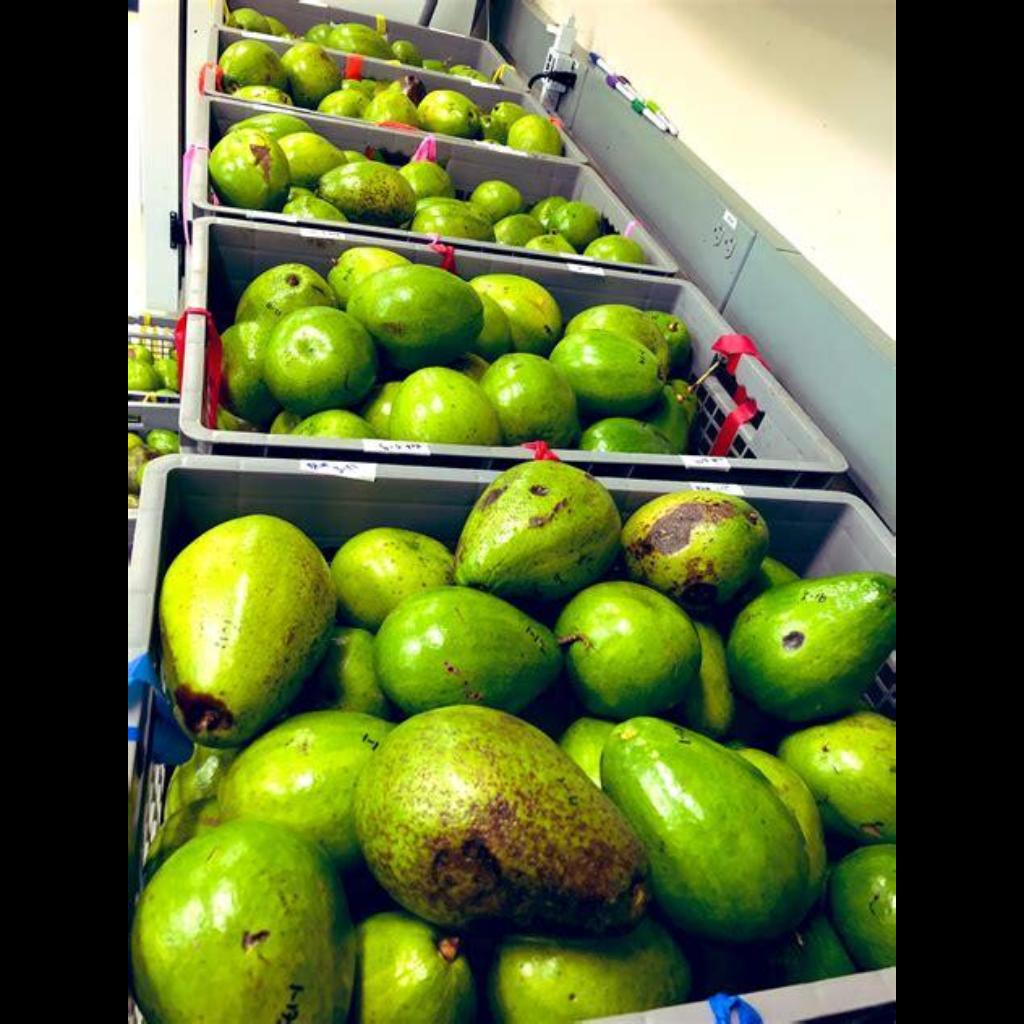Anthracnose: (342, 710, 646, 922), (608, 478, 784, 584)
